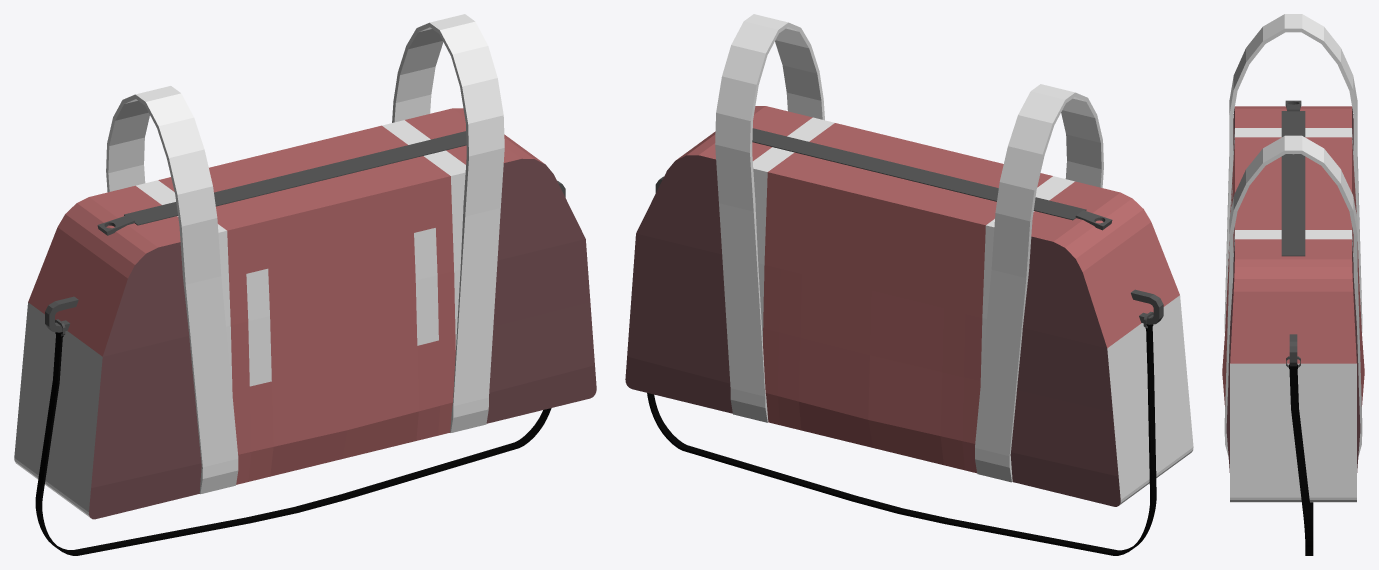
File: gym_bag_drone.fbx
3 renders of one model, left to right at view 1: azimuth 30°, elevation 25°; view 2: azimuth 150°, elevation 25°; view 3: azimuth 270°, elevation 25°, orthographic. The views are drawn at different scales.
Parts seen in each view (by area): view 1: ZipperZip.001; view 2: ZipperZip.001; view 3: ZipperZip.001.
Part boxes in pixels (x1,y1,x2,y2): ZipperZip.001: (14, 14, 596, 555); ZipperZip.001: (625, 14, 1193, 555); ZipperZip.001: (1222, 14, 1364, 555).
Bounding box in the file's own units: 641 × 544 × 180.
